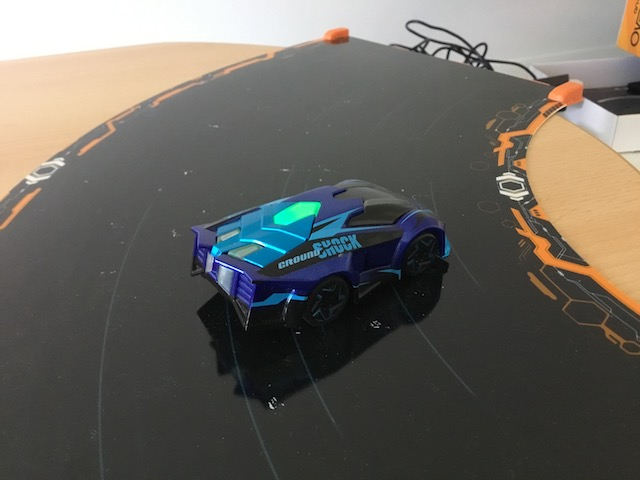car-blue: (186, 174, 458, 339)
